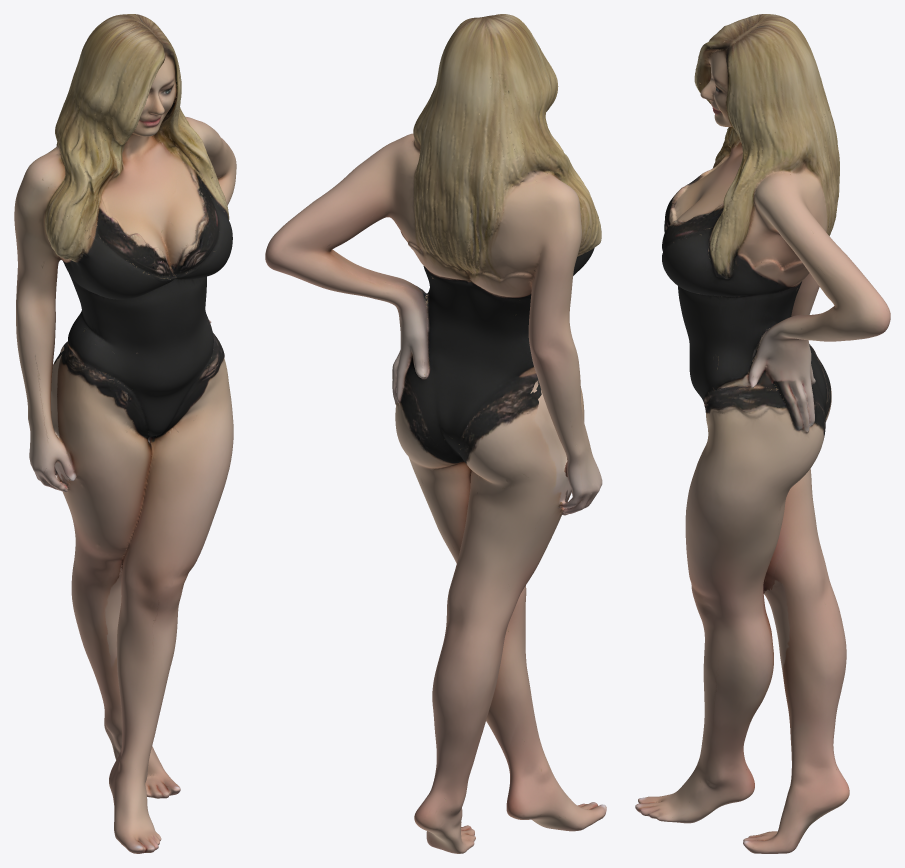
File: Mulher-branca-lingerie.glb
3 views of the same model, side by side, from view 1: azimuth 30°, elevation 25°; view 2: azimuth 150°, elevation 25°; view 3: azimuth 270°, elevation 25° (orthographic). The views are drawn at different scales.
Size of the model in its own units: 0.683 by 2 by 0.569.
Materials: 1 (1 with a texture image).
